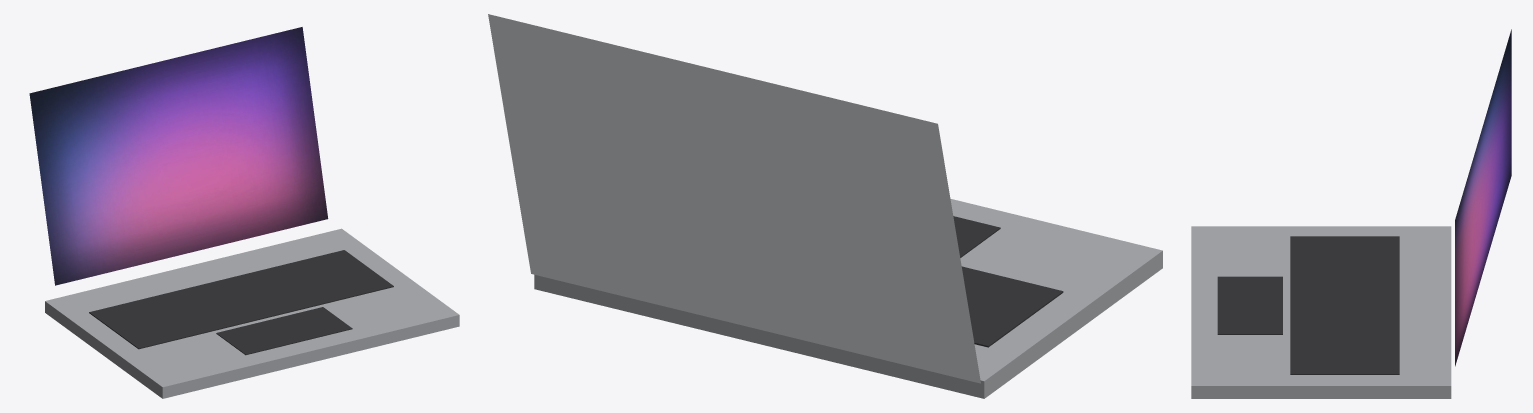
The model's file is obj-laptop.glb.
3 views of the same model, side by side, from view 1: azimuth 30°, elevation 25°; view 2: azimuth 150°, elevation 25°; view 3: azimuth 270°, elevation 25° (orthographic). The views are drawn at different scales.
Visible parts, largest first — view 1: obj-laptop; view 2: obj-laptop; view 3: obj-laptop.
Boxes of the visible parts, x1=… form: obj-laptop: x1=29, y1=27, x2=459, y2=398; obj-laptop: x1=488, y1=14, x2=1162, y2=398; obj-laptop: x1=1191, y1=29, x2=1511, y2=398.
Size of the model in its own units: 0.32 by 0.21 by 0.2771.
3 materials, 1 textured.
